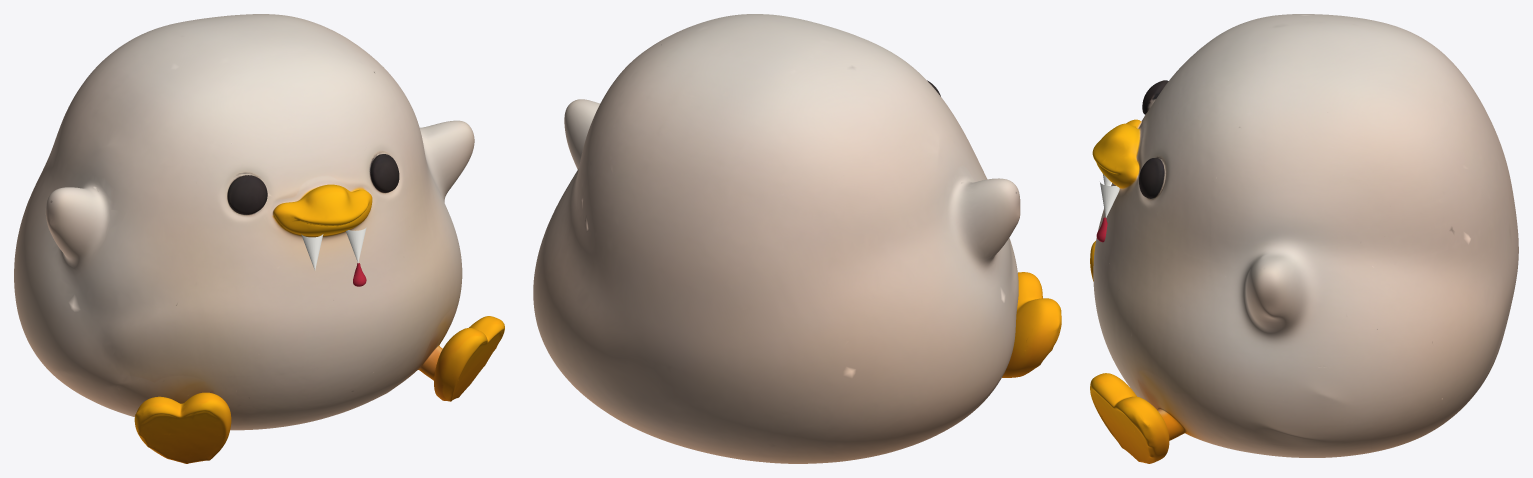
File: obj4-colmillos.glb
The picture shows the model from 3 angles, left to right: view 1: azimuth 30°, elevation 25°; view 2: azimuth 150°, elevation 25°; view 3: azimuth 270°, elevation 25°; orthographic projection. The views are drawn at different scales.
Visible parts, largest first — view 1: node_0, Colmillos; view 2: node_0; view 3: node_0, Colmillos.
Part boxes in pixels (box(x1,y1,x2,y2)): node_0: box(14, 14, 504, 463); Colmillos: box(301, 227, 366, 286); node_0: box(533, 14, 1061, 463); node_0: box(1090, 14, 1518, 463); Colmillos: box(1096, 173, 1119, 242).
Size of the model in its own units: 1.01 by 0.8069 by 0.8466.
3 materials, 1 textured.
